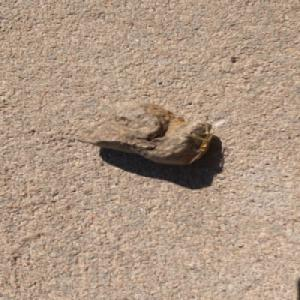Rock: (74, 101, 214, 166)
